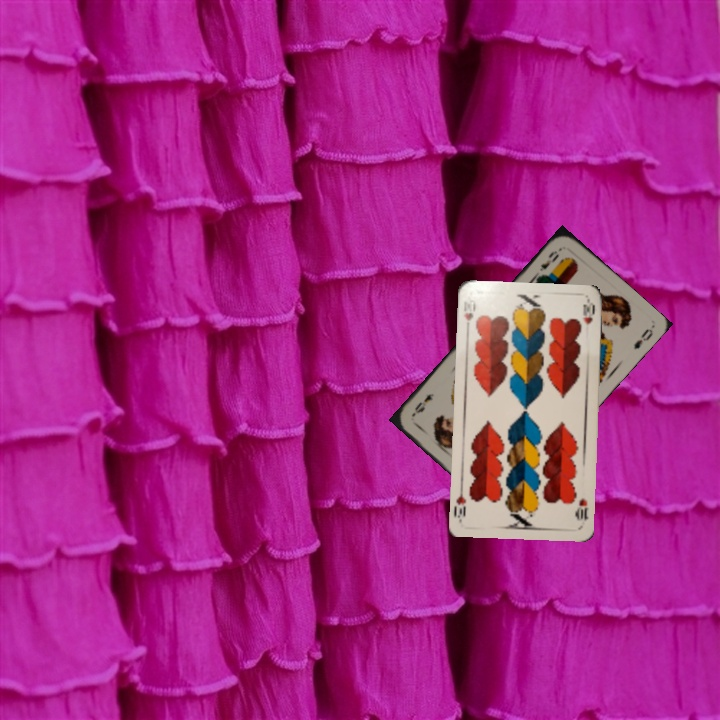EO: (535, 246, 562, 274)
H10: (460, 293, 478, 334), (572, 494, 591, 523)
